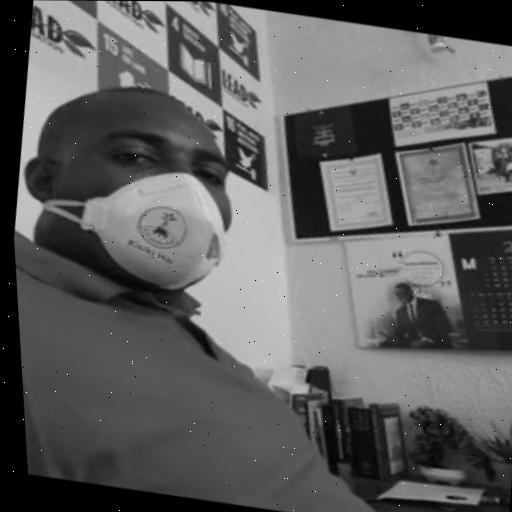mask: (34, 80, 252, 297)
